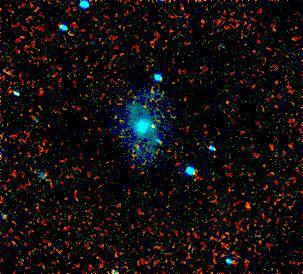star: (138, 112, 168, 142)
